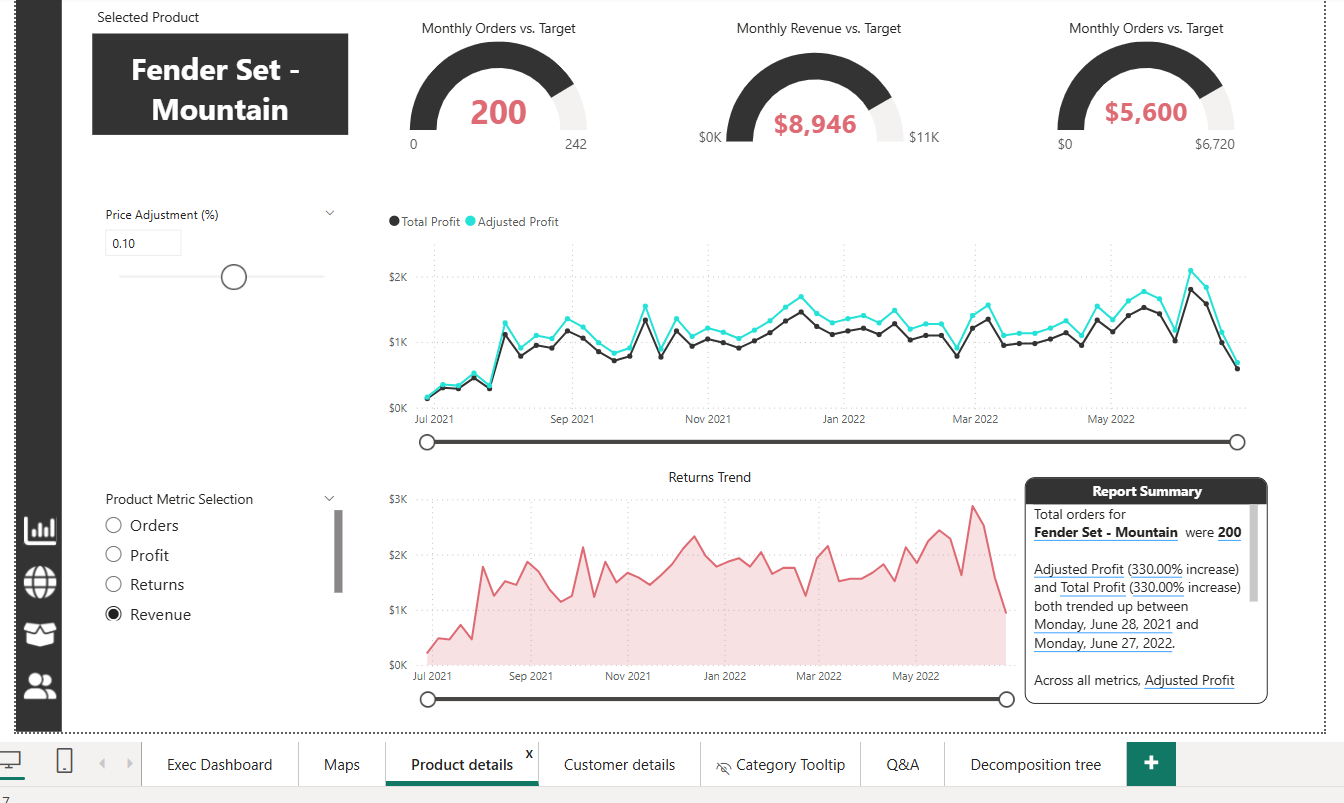

What the dashboard file says about the page in this screenshot:
{"tool":"powerbi","page":{"name":"Product details","canvas":[1280,720],"ordinal":2},"visuals":[{"type":"shape","box":[0,0,45,719.8],"z":0},{"type":"actionButton","box":[3.1,603.8,39.8,41.1],"z":0,"group":"g1"},{"type":"actionButton","box":[3.1,502.6,39.8,41.1],"z":1000,"group":"g1"},{"type":"gauge","title":"Monthly Orders vs. Target","fields":{"Y":["Measure Table.Total Orders"],"MaxValue":["Measure Table.Order Target"]},"box":[359.5,22.4,225.2,141.8],"z":1000},{"type":"gauge","title":"Monthly Orders vs. Target","fields":{"Y":["Measure Table.Total Profit"],"MaxValue":["Measure Table.Profit Target"]},"box":[986.5,22.4,237.6,141.8],"z":2000},{"type":"actionButton","box":[3.1,553.2,39.8,41.1],"z":2000,"group":"g1"},{"type":"gauge","title":"Monthly Revenue vs. Target","fields":{"Y":["Measure Table.Total Revenue"],"MaxValue":["Measure Table.Revenue Target"]},"box":[658.1,22.4,255,141.8],"z":3000},{"type":"actionButton","box":[3.1,654.4,39.8,41.1],"z":3000,"group":"g1"},{"type":"lineChart","title":"Profit Trend","fields":{"Category":["Calendar Lookup.Date Hierarchy.Start of Year","Calendar Lookup.Date Hierarchy.Start of Month","Calendar Lookup.Date Hierarchy.Start of Week","Calendar Lookup.Date Hierarchy.Date"],"Y":["Measure Table.Total Profit","Measure Table.Adjusted Profit"]},"box":[359.5,200.3,864.6,246.3],"z":4000},{"type":"areaChart","title":"Returns Trend","fields":{"Y":["Measure Table.Total Revenue"],"Category":["Calendar Lookup.Date Hierarchy.Start of Year","Calendar Lookup.Date Hierarchy.Start of Month","Calendar Lookup.Date Hierarchy.Start of Week","Calendar Lookup.Date Hierarchy.Date"]},"box":[359.5,461.5,638.2,237.6],"z":5000},{"type":"card","title":"Selected Product","fields":{"Values":["Min(Product Lookup.ProductName)"]},"box":[74.6,36.1,250,99.5],"z":6000},{"type":"textbox","box":[74.6,6.2,126.9,29.9],"z":7000},{"type":"group","id":"g1","title":"Navigation buttons","box":[3.1,502.6,39.8,192.8],"z":8000},{"type":"slicer","fields":{"Values":["Price Adjustment (%).Price Adjustment (%)"]},"box":[74.6,200.3,250,135.6],"z":9000},{"type":"slicer","fields":{"Values":["Product Metric Selection.Product Metric Selection"]},"box":[74.6,477.7,250,138.1],"z":10000},{"type":"textbox","title":"Report Summary ","box":[986.5,470.2,237.6,221.4],"z":11000}]}

Visuals, with their boxes on the page's 1280x720 design canvas (x1, y1, x2, y2). These are canvas units, not pixel positions in the 1344x803 screenshot, which may show the page scaled, cropped or inside an application window:
shape: {"x1": 0, "y1": 0, "x2": 45, "y2": 720}
actionButton: {"x1": 3, "y1": 604, "x2": 43, "y2": 645}
actionButton: {"x1": 3, "y1": 503, "x2": 43, "y2": 544}
"Monthly Orders vs. Target" gauge: {"x1": 360, "y1": 22, "x2": 585, "y2": 164}
"Monthly Orders vs. Target" gauge: {"x1": 986, "y1": 22, "x2": 1224, "y2": 164}
actionButton: {"x1": 3, "y1": 553, "x2": 43, "y2": 594}
"Monthly Revenue vs. Target" gauge: {"x1": 658, "y1": 22, "x2": 913, "y2": 164}
actionButton: {"x1": 3, "y1": 654, "x2": 43, "y2": 696}
"Profit Trend" lineChart: {"x1": 360, "y1": 200, "x2": 1224, "y2": 447}
"Returns Trend" areaChart: {"x1": 360, "y1": 462, "x2": 998, "y2": 699}
"Selected Product" card: {"x1": 75, "y1": 36, "x2": 325, "y2": 136}
textbox: {"x1": 75, "y1": 6, "x2": 202, "y2": 36}
"Navigation buttons" group: {"x1": 3, "y1": 503, "x2": 43, "y2": 695}
slicer - Price Adjustment (%).Price Adjustment (%): {"x1": 75, "y1": 200, "x2": 325, "y2": 336}
slicer - Product Metric Selection.Product Metric Selection: {"x1": 75, "y1": 478, "x2": 325, "y2": 616}
"Report Summary " textbox: {"x1": 986, "y1": 470, "x2": 1224, "y2": 692}
